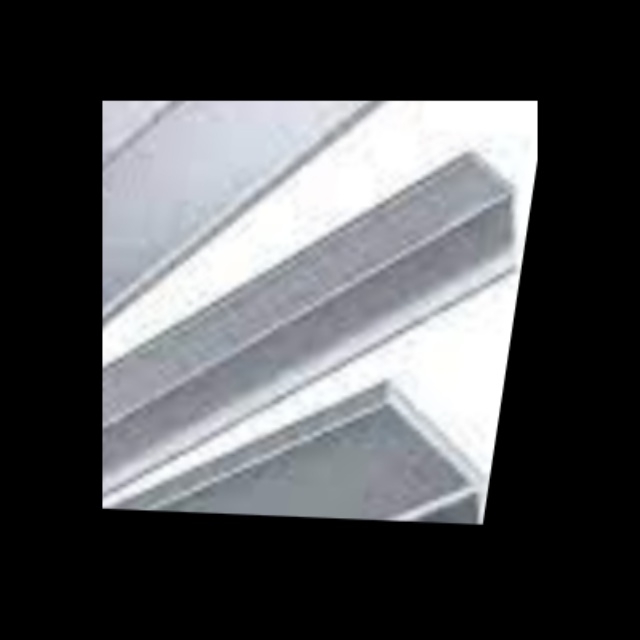Angle: (371, 398, 501, 525), (458, 158, 529, 265)
